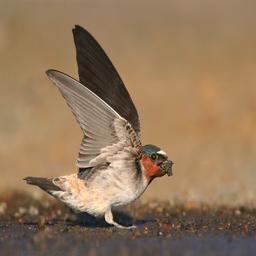Swallow: (22, 23, 174, 231)
